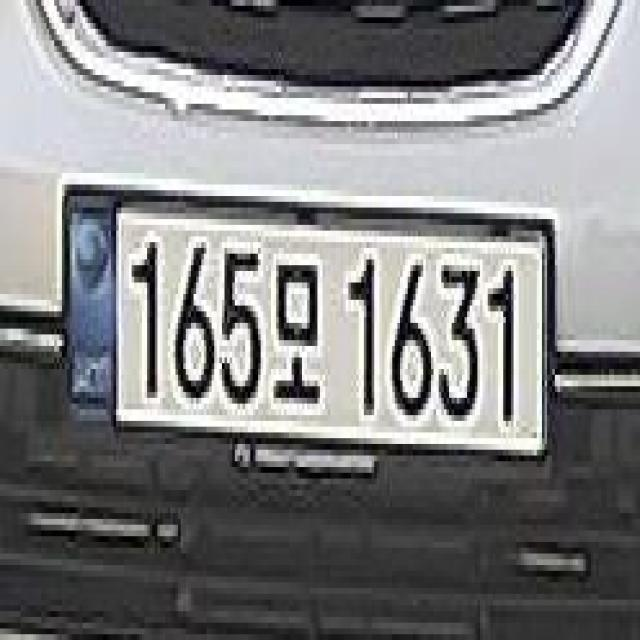illegal_plate: (55, 173, 553, 491)
